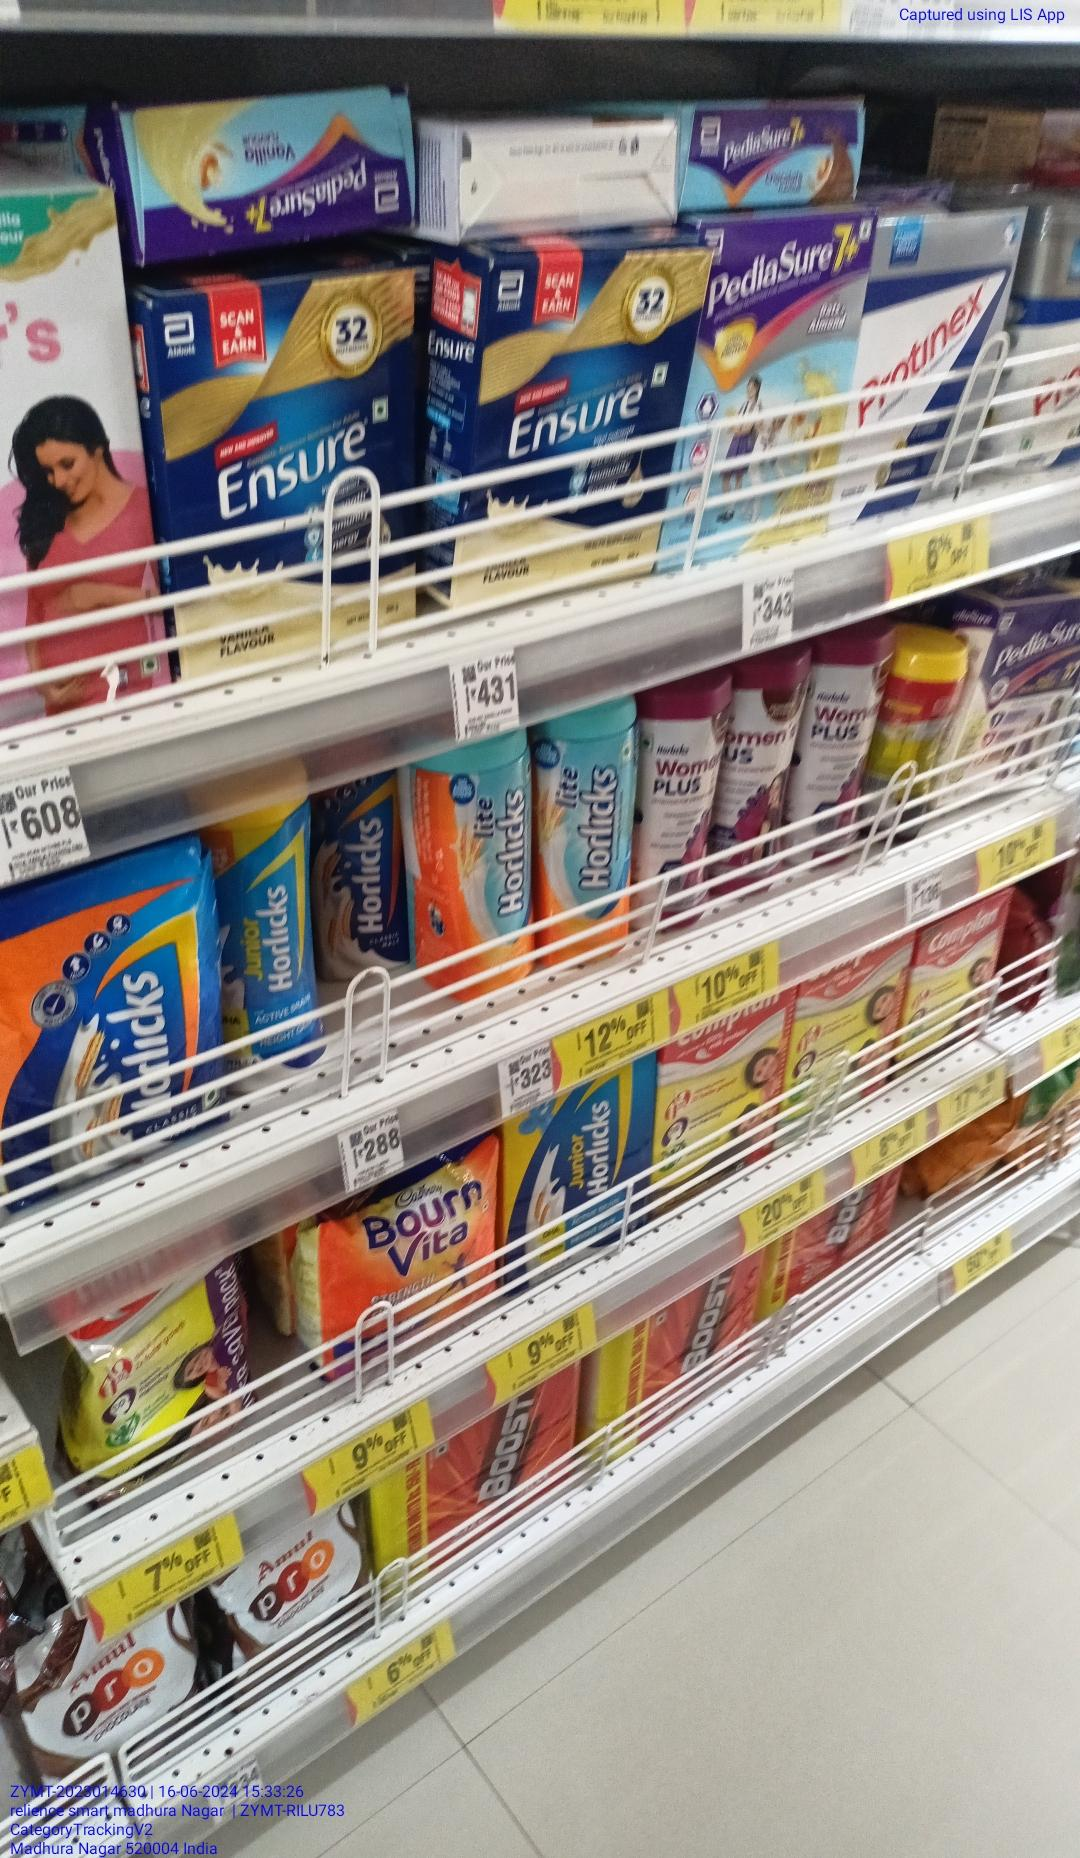ENSURE_VANILLA_400_G_PACK: (180, 260, 428, 678), (455, 247, 665, 571)
HORLICKS_JUNIOR_VANILLA_500_GM_JAR: (212, 782, 311, 1075)
PROTINEX_ORIGINAL_400_G_JAR: (1000, 188, 1080, 495)
